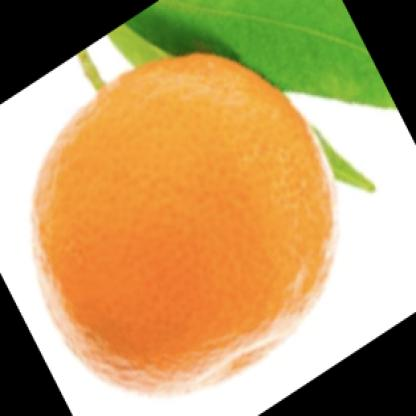fresh: (31, 51, 332, 388)
